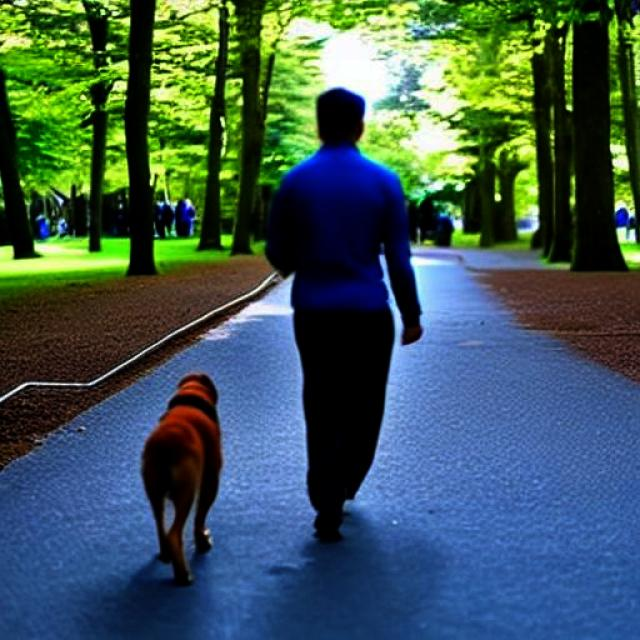Unleashed_Dog: (140, 305, 384, 587)
